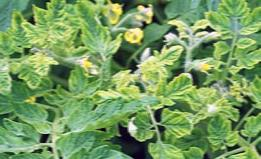Tomato leaf yellow virus: (73, 1, 121, 63), (161, 66, 197, 106), (158, 106, 197, 141), (204, 113, 239, 151), (144, 134, 187, 159), (17, 55, 42, 90), (151, 42, 187, 66), (9, 11, 32, 47), (230, 47, 261, 71), (241, 110, 261, 146), (237, 7, 261, 36), (218, 0, 247, 23), (41, 24, 80, 40), (200, 10, 228, 32), (243, 84, 261, 113), (45, 0, 70, 19)
